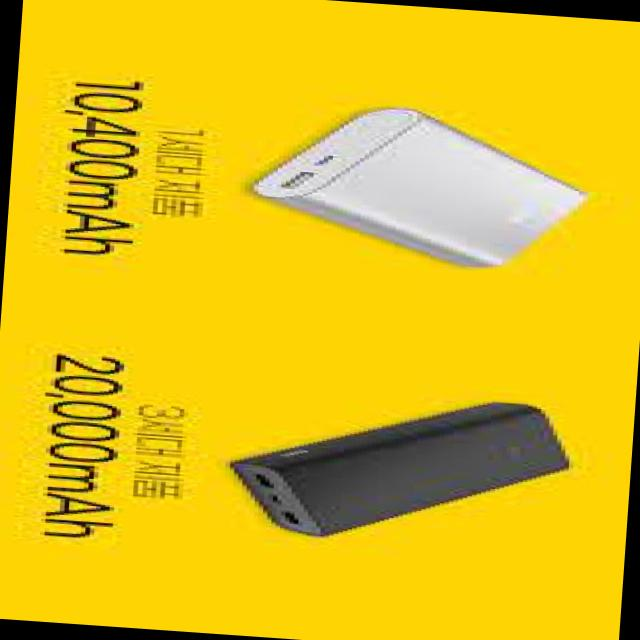power_bank: (238, 94, 606, 285), (219, 378, 579, 556)
